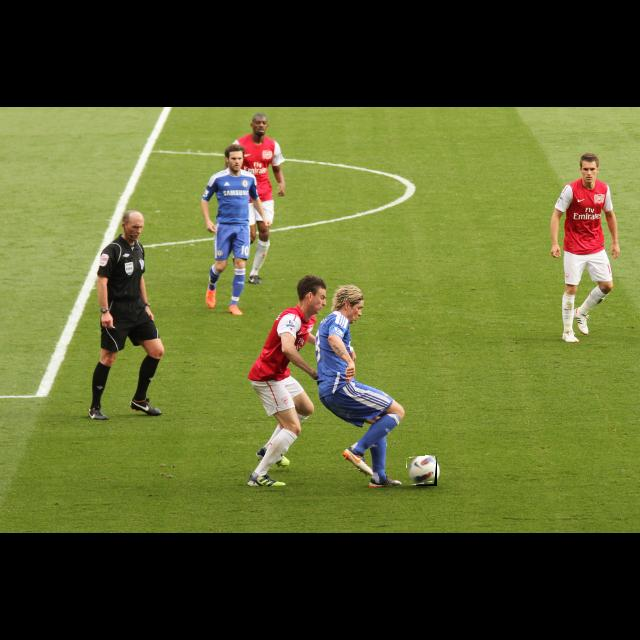Football: (407, 456, 437, 486)
